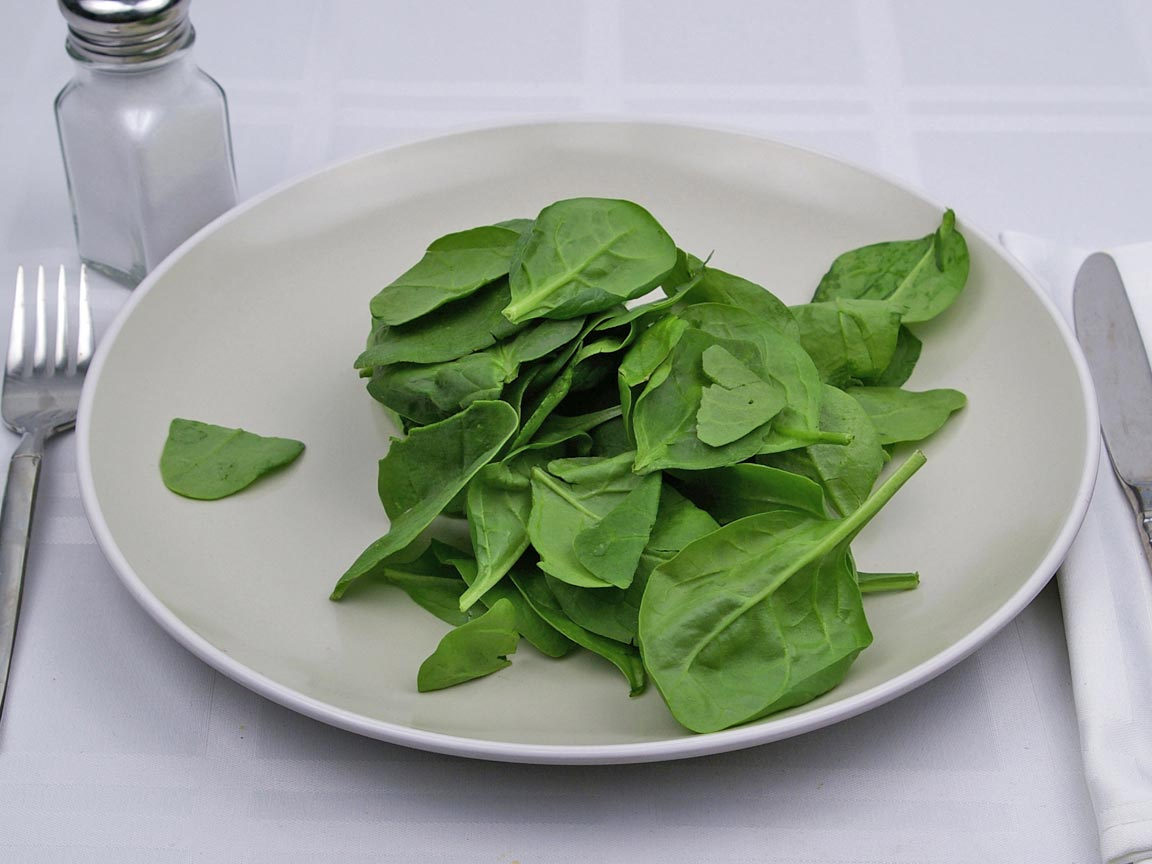Spinach: (331, 195, 994, 770), (136, 400, 311, 518)
